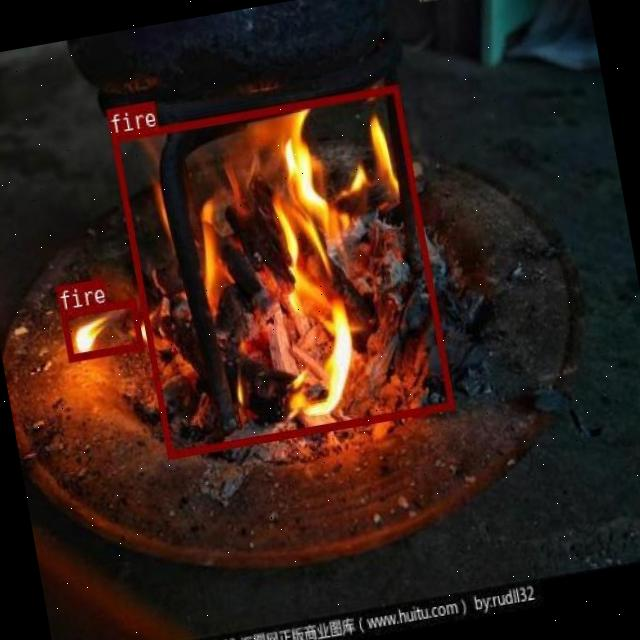fire: (110, 85, 453, 458), (60, 297, 143, 360)
